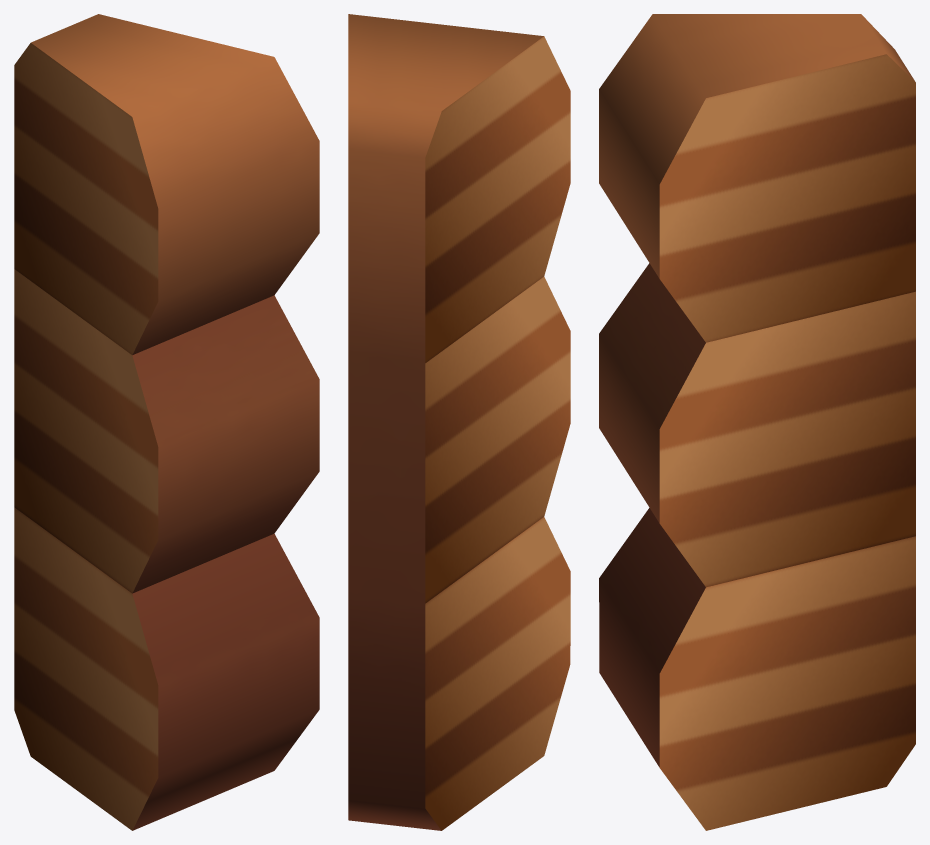
The model's file is m_Baumkuchen02_Slice.fbx.
The picture shows the model from 3 angles, left to right: view 1: azimuth 30°, elevation 25°; view 2: azimuth 150°, elevation 25°; view 3: azimuth 270°, elevation 25°; orthographic projection. The views are drawn at different scales.
Parts seen in each view (by area): view 1: m_Baumkuchen02_Slice; view 2: m_Baumkuchen02_Slice; view 3: m_Baumkuchen02_Slice.
Boxes of the visible parts, x1,y1,x2,y2 form: m_Baumkuchen02_Slice: (14, 14, 319, 830); m_Baumkuchen02_Slice: (348, 14, 570, 830); m_Baumkuchen02_Slice: (599, 14, 915, 830).
Size of the model in its own units: 4.28 by 15.31 by 6.
